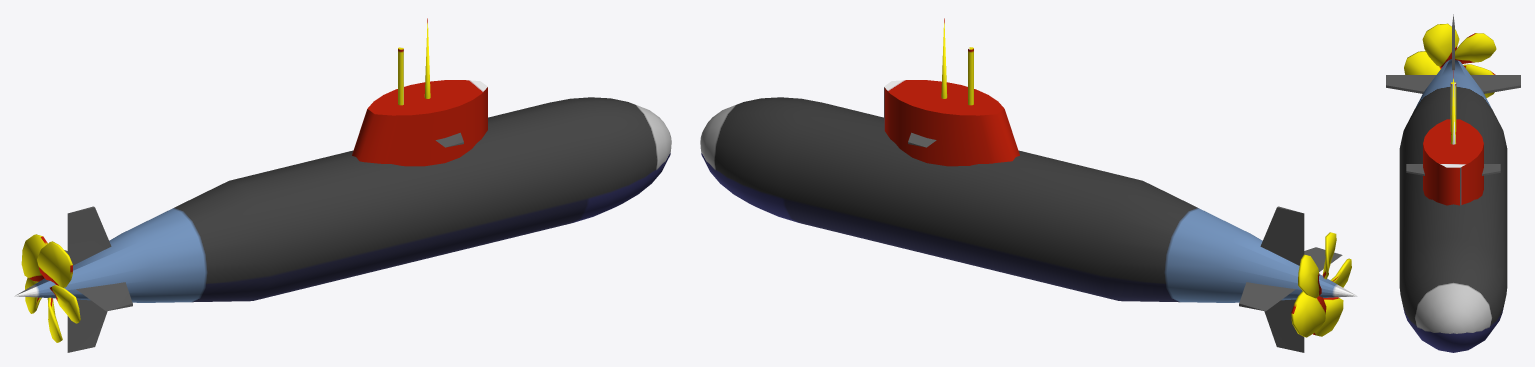
Rendered from submarine.obj.
The picture shows the model from 3 angles, left to right: view 1: azimuth 30°, elevation 25°; view 2: azimuth 150°, elevation 25°; view 3: azimuth 270°, elevation 25°; orthographic projection. The views are drawn at different scales.
Bounding box in the file's own units: 24.5 × 9 × 5.
